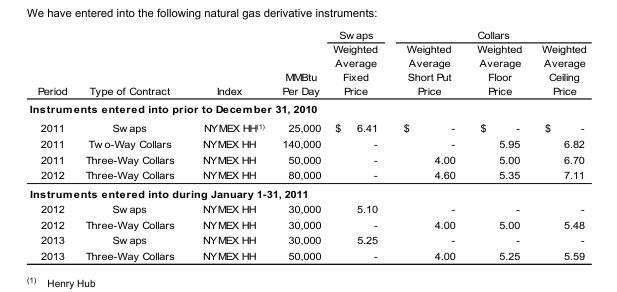table: (28, 28, 585, 261)
table column: (75, 28, 187, 261), (187, 28, 272, 261), (389, 28, 465, 261), (465, 28, 531, 261), (326, 28, 389, 261), (272, 28, 326, 261), (531, 28, 585, 261), (28, 28, 75, 261)
table column header: (28, 28, 585, 99)
table projected row header: (28, 99, 585, 118), (28, 184, 585, 201)
table row: (28, 41, 585, 99), (28, 99, 585, 118), (28, 166, 585, 184), (28, 118, 585, 135), (28, 184, 585, 201), (28, 135, 585, 151), (28, 216, 585, 232), (28, 151, 585, 166), (28, 201, 585, 216), (28, 232, 585, 247), (28, 247, 585, 261), (28, 28, 585, 41)
table spanning cell: (75, 28, 187, 99), (187, 28, 272, 99), (326, 28, 389, 99), (272, 28, 326, 99), (28, 28, 75, 99), (389, 28, 585, 41)
